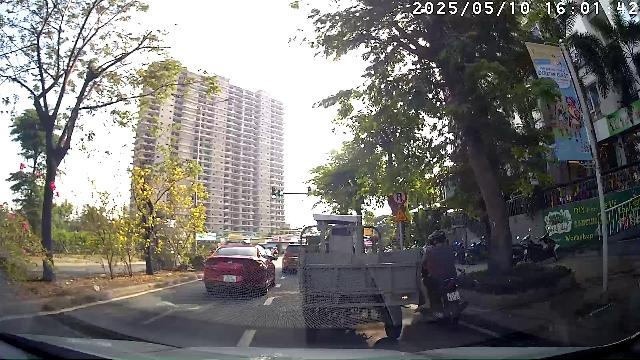124a-cam-quay-dau-xe: (392, 190, 408, 204)
